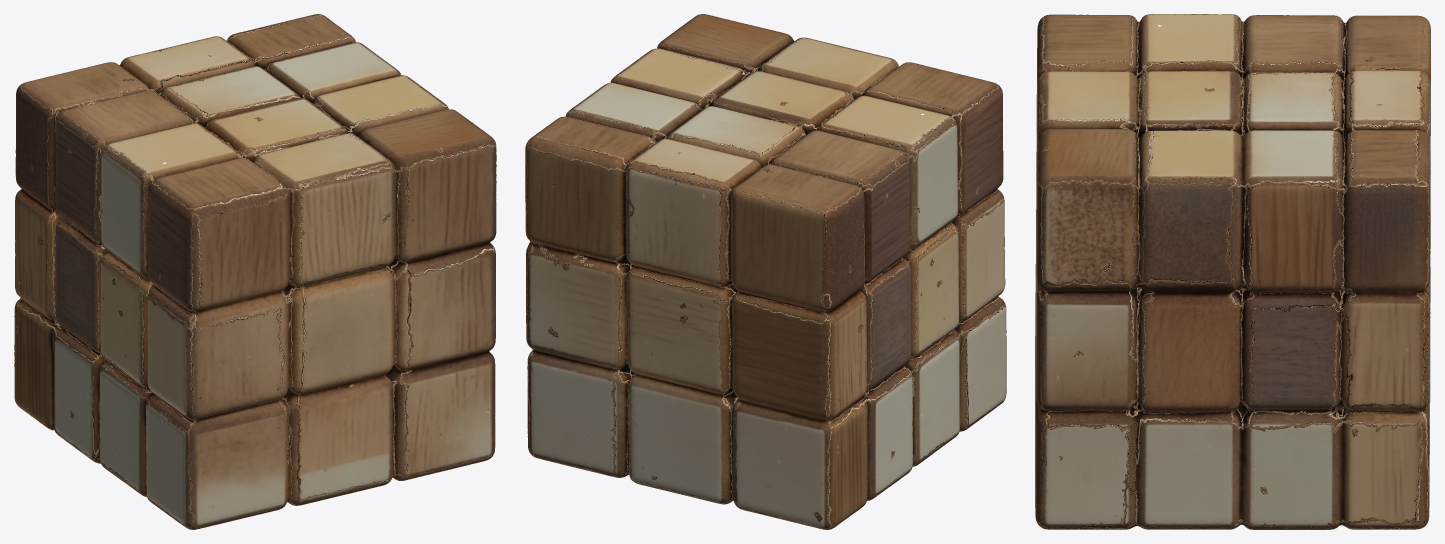
3 views of the same model, side by side, from view 1: azimuth 30°, elevation 25°; view 2: azimuth 150°, elevation 25°; view 3: azimuth 270°, elevation 25° (orthographic). The views are drawn at different scales.
Size of the model in its own units: 1.2 by 1.19 by 1.19.
1 material, 1 textured.
